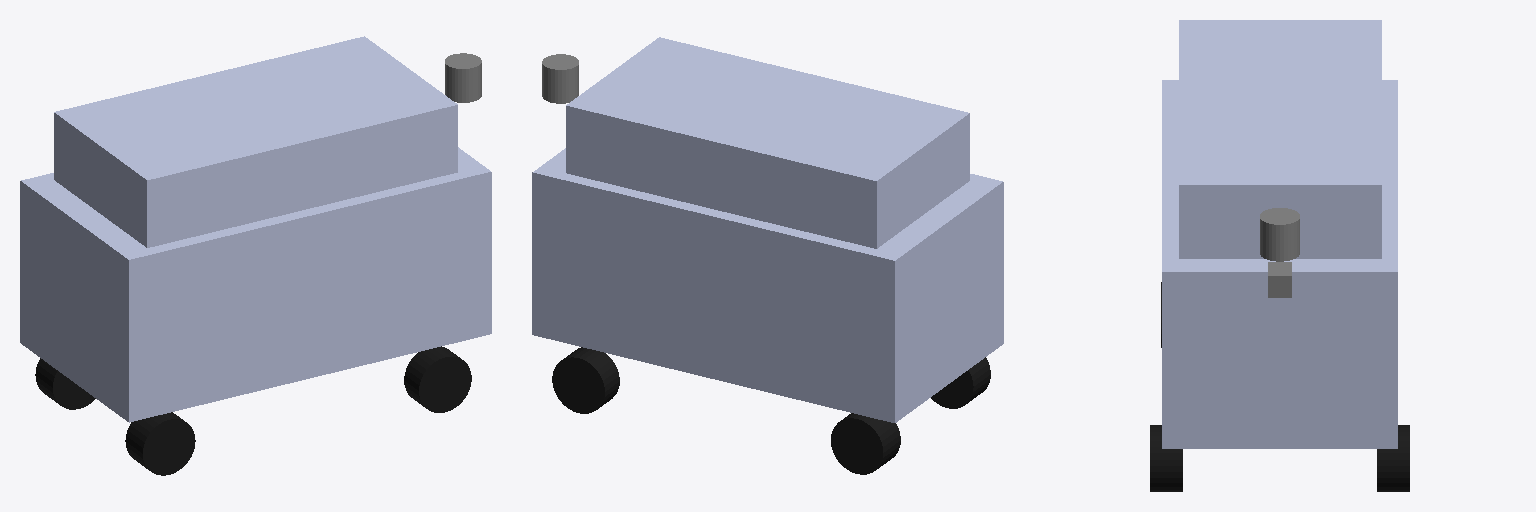
URDF robot description (R1_rviz):
<?xml version="1.0" encoding="utf-8"?>
<robot name="R1_rviz">
  <material name="frame_white">
    <color rgba="0.79 0.82 0.93 1.0" />
  </material>
  <material name="wheel_black">
    <color rgba="0.15 0.15 0.15 1.0" />
  </material>
  <material name="sensor_gray">
    <color rgba="0.55 0.55 0.55 1.0" />
  </material>

  <link name="base_footprint" />

  <joint name="base_footprint_joint" type="fixed">
    <origin xyz="0 0 0.04075" rpy="0 0 0" />
    <parent link="base_footprint" />
    <child link="base_link" />
  </joint>

  <link name="base_link">
    <visual>
      <origin xyz="0.02 0 0.17" rpy="0 0 0" />
      <geometry>
        <box size="0.56 0.29 0.24" />
      </geometry>
      <material name="frame_white" />
    </visual>
    <visual>
      <origin xyz="0.02 0 0.34" rpy="0 0 0" />
      <geometry>
        <box size="0.48 0.25 0.10" />
      </geometry>
      <material name="frame_white" />
    </visual>
  </link>

  <link name="Empty_Link1">
    <visual>
      <origin xyz="0 0.0175 0" rpy="1.57079632679 0 0" />
      <geometry>
        <cylinder radius="0.04075" length="0.040" />
      </geometry>
      <material name="wheel_black" />
    </visual>
  </link>

  <joint name="J1" type="continuous">
    <origin xyz="0.220127909860013 0.122535316479216 0.0" rpy="0 0 0" />
    <parent link="base_link" />
    <child link="Empty_Link1" />
    <axis xyz="0 1 0" />
  </joint>

  <link name="Empty_Link2">
    <visual>
      <origin xyz="0 0.0020 0" rpy="1.57079632679 0 0" />
      <geometry>
        <cylinder radius="0.04075" length="0.040" />
      </geometry>
      <material name="wheel_black" />
    </visual>
  </link>

  <joint name="J2" type="continuous">
    <origin xyz="0.220127909860013 -0.142085316479216 0.0" rpy="0 0 0" />
    <parent link="base_link" />
    <child link="Empty_Link2" />
    <axis xyz="0 -1 0" />
  </joint>

  <link name="Empty_Link3">
    <visual>
      <origin xyz="0 -0.0010 0" rpy="1.57079632679 0 0" />
      <geometry>
        <cylinder radius="0.04075" length="0.0465" />
      </geometry>
      <material name="wheel_black" />
    </visual>
  </link>

  <joint name="J3" type="continuous">
    <origin xyz="-0.19879978611665 -0.122535316479219 0.0" rpy="0 0 0" />
    <parent link="base_link" />
    <child link="Empty_Link3" />
    <axis xyz="0 -1 0" />
  </joint>

  <link name="Empty_Link4">
    <visual>
      <origin xyz="0 -0.0020 0" rpy="1.57079632679 0 0" />
      <geometry>
        <cylinder radius="0.04075" length="0.0465" />
      </geometry>
      <material name="wheel_black" />
    </visual>
  </link>

  <joint name="J4" type="continuous">
    <origin xyz="-0.19879978611665 0.119285316479219 0.0" rpy="0 0 0" />
    <parent link="base_link" />
    <child link="Empty_Link4" />
    <axis xyz="0 1 0" />
  </joint>

  <link name="imu_link">
    <visual>
      <origin xyz="0 0 0" rpy="0 0 0" />
      <geometry>
        <box size="0.03 0.03 0.015" />
      </geometry>
      <material name="sensor_gray" />
    </visual>
  </link>

  <joint name="imu_joint" type="fixed">
    <origin xyz="0.02 0 0.22" rpy="0 0 0" />
    <parent link="base_link" />
    <child link="imu_link" />
  </joint>

  <link name="laser_link">
    <visual>
      <origin xyz="0 0 0" rpy="0 0 0" />
      <geometry>
        <cylinder radius="0.025" length="0.05" />
      </geometry>
      <material name="sensor_gray" />
    </visual>
  </link>

  <joint name="laser_joint" type="fixed">
    <origin xyz="0.34 0 0.36" rpy="0 0 0" />
    <parent link="base_link" />
    <child link="laser_link" />
  </joint>

  <link name="camera_link">
    <visual>
      <origin xyz="0 0 0" rpy="0 0 0" />
      <geometry>
        <box size="0.04 0.03 0.03" />
      </geometry>
      <material name="sensor_gray" />
    </visual>
  </link>

  <joint name="camera_joint" type="fixed">
    <origin xyz="0.30 0 0.28" rpy="0 0 0" />
    <parent link="base_link" />
    <child link="camera_link" />
  </joint>

  <link name="camera_optical_link" />

  <joint name="camera_optical_joint" type="fixed">
    <origin xyz="0 0 0" rpy="-1.57079632679 0 -1.57079632679" />
    <parent link="camera_link" />
    <child link="camera_optical_link" />
  </joint>
</robot>

--- What the picture shows (computed from the rendered views, not written in the file) ---
3 views of the same robot in one strip: view 1: azimuth 30°, elevation 25°; view 2: azimuth 150°, elevation 25°; view 3: azimuth 270°, elevation 25° (orthographic).
Robot: R1_rviz — 10 links, 9 joints (4 continuous, 5 fixed); root link base_footprint; default pose: every joint at zero.
Visible links, largest first — view 1: base_link, Empty_Link2, Empty_Link3, laser_link, Empty_Link4; view 2: base_link, Empty_Link1, Empty_Link4, laser_link, Empty_Link3; view 3: base_link, laser_link, Empty_Link1, Empty_Link2, camera_link.
Boxes of the visible links, <box> form: base_link: <box>20,36,491,422</box>; Empty_Link2: <box>404,346,471,412</box>; Empty_Link3: <box>125,412,195,475</box>; laser_link: <box>445,53,481,102</box>; Empty_Link4: <box>35,358,95,409</box>; base_link: <box>532,37,1003,422</box>; Empty_Link1: <box>552,347,619,413</box>; Empty_Link4: <box>831,413,900,474</box>; laser_link: <box>542,54,578,103</box>; Empty_Link3: <box>931,357,990,408</box>; base_link: <box>1162,20,1397,448</box>; laser_link: <box>1260,208,1299,261</box>; Empty_Link1: <box>1377,425,1409,491</box>; Empty_Link2: <box>1150,425,1182,491</box>; camera_link: <box>1268,262,1291,297</box>.
Size in the robot's own frame: 0.625 by 0.3201 by 0.4308 metres.
Geometry: primitives only (box / cylinder / sphere), no mesh files.
